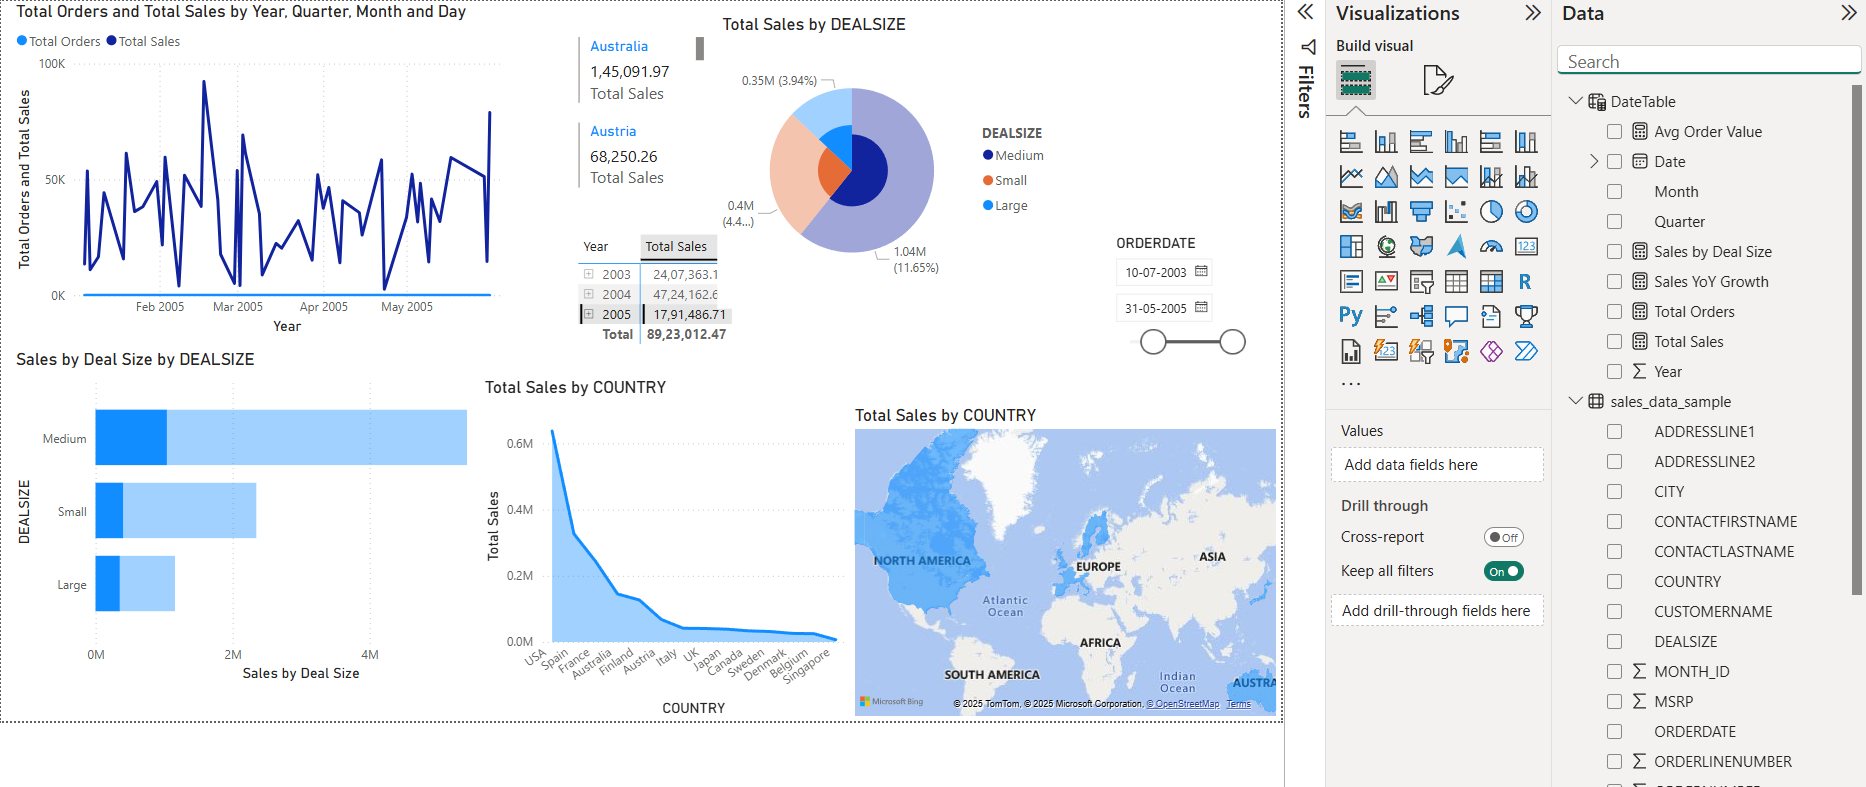

Layout of this report page (visuals, bound fields, positions):
{"tool":"powerbi","page":{"name":"Page 1","canvas":[1280,720],"ordinal":0},"visuals":[{"type":"lineChart","fields":{"Y":["DateTable.Total Orders","DateTable.Total Sales"],"Category":["DateTable.Date.Variation.Date Hierarchy.Year","DateTable.Date.Variation.Date Hierarchy.Quarter","DateTable.Date.Variation.Date Hierarchy.Month","DateTable.Date.Variation.Date Hierarchy.Day"]},"box":[10,0,510,338],"z":0},{"type":"multiRowCard","fields":{"Values":["sales_data_sample.COUNTRY","DateTable.Total Sales"]},"box":[572.5,31.2,135,178.8],"z":1000},{"type":"barChart","fields":{"Y":["DateTable.Sales by Deal Size"],"Category":["sales_data_sample.DEALSIZE"]},"box":[10,348,510,338],"z":2000},{"type":"pivotTable","fields":{"Rows":["DateTable.Date.Variation.Date Hierarchy.Year","DateTable.Date.Variation.Date Hierarchy.Quarter"],"Values":["DateTable.Total Sales"]},"box":[572.5,228.8,192.5,131.2],"z":3000},{"type":"pieChart","fields":{"Category":["sales_data_sample.DEALSIZE"],"Y":["DateTable.Total Sales"]},"box":[716.2,12.5,348.8,295],"z":4000},{"type":"filledMap","fields":{"Category":["sales_data_sample.COUNTRY"]},"box":[848.8,403.8,431.2,316.2],"z":5000},{"type":"stackedAreaChart","fields":{"Y":["DateTable.Total Sales"],"Category":["sales_data_sample.COUNTRY"]},"box":[478.8,376.2,370,343.8],"z":6000},{"type":"slicer","fields":{"Values":["sales_data_sample.ORDERDATE"]},"box":[1102.5,228.8,150,178.8],"z":6001}]}

Visuals, with their boxes on the page's 1280x720 design canvas (x1, y1, x2, y2). These are canvas units, not pixel positions in the 1866x787 screenshot, which may show the page scaled, cropped or inside an application window:
lineChart - DateTable.Total Orders x DateTable.Total Sales: bbox=(10, 0, 520, 338)
multiRowCard - sales_data_sample.COUNTRY x DateTable.Total Sales: bbox=(572, 31, 708, 210)
barChart - DateTable.Sales by Deal Size x sales_data_sample.DEALSIZE: bbox=(10, 348, 520, 686)
pivotTable - DateTable.Date.Variation.Date Hierarchy.Year x DateTable.Date.Variation.Date Hierarchy.Quarter: bbox=(572, 229, 765, 360)
pieChart - sales_data_sample.DEALSIZE x DateTable.Total Sales: bbox=(716, 12, 1065, 308)
filledMap - sales_data_sample.COUNTRY: bbox=(849, 404, 1280, 720)
stackedAreaChart - DateTable.Total Sales x sales_data_sample.COUNTRY: bbox=(479, 376, 849, 720)
slicer - sales_data_sample.ORDERDATE: bbox=(1102, 229, 1252, 408)
